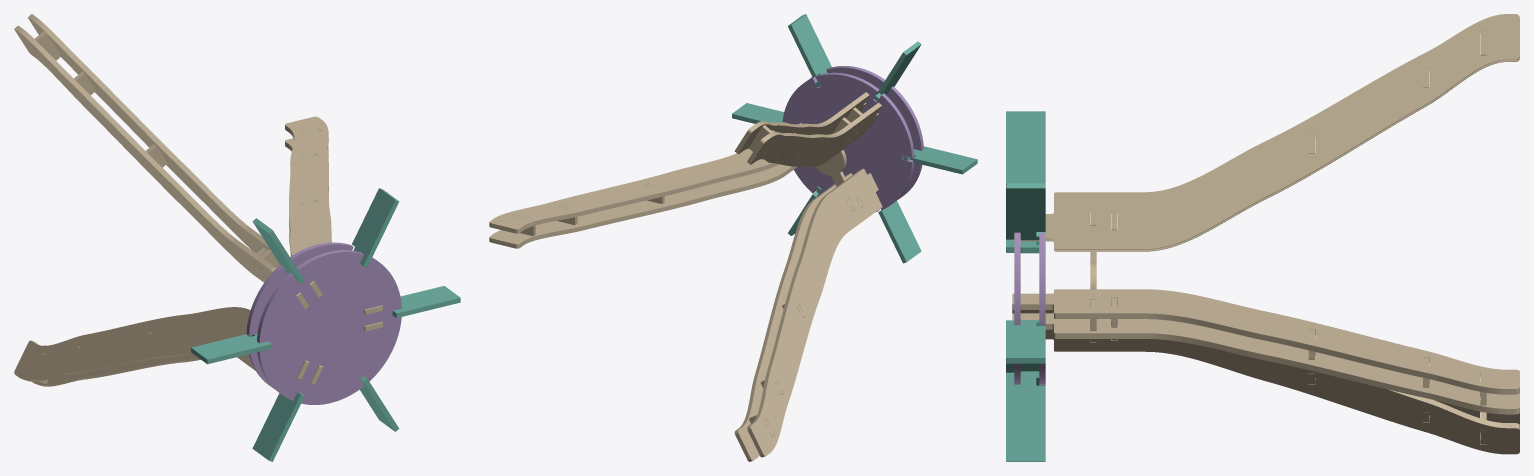
File: C-baseline-27-DESIGN_ONLY.glb
The picture shows the model from 3 angles, left to right: view 1: azimuth 30°, elevation 25°; view 2: azimuth 150°, elevation 25°; view 3: azimuth 270°, elevation 25°; orthographic projection. The views are drawn at different scales.
Parts seen in each view (by area): view 1: P04U, L3_P01_1, L1_P01_2, L2_P01_2, L2_P01_1, P04L, P05_2, P05_5, P05_4, L3_P01_2, P05_1, P05_3 (+1 smaller); view 2: L3_P01_1, P04L, L1_P01_2, L1_P01_1, L2_P01_2, L3_P01_2, P04U, L2_P01_1, P05_2, P05_5, P05_4, P03 (+2 smaller); view 3: L2_P01_1, L1_P01_2, L3_P01_2, L1_P01_1, P05_6, P05_3, P05_2, P05_1, L2_P01_2, P04L, P04U, L3_P01_1 (+1 smaller).
Boxes of the visible parts, x1,y1,x2,y2 form: P04U: [257, 250, 401, 404]; L3_P01_1: [14, 307, 309, 381]; L1_P01_2: [285, 116, 382, 314]; L2_P01_2: [14, 25, 309, 309]; L2_P01_1: [28, 14, 322, 298]; P04L: [246, 242, 355, 389]; P05_2: [352, 188, 399, 267]; P05_5: [252, 391, 304, 461]; P05_4: [191, 334, 271, 364]; L3_P01_2: [32, 345, 323, 386]; P05_1: [392, 286, 460, 317]; P05_3: [252, 218, 304, 283]; L3_P01_1: [747, 168, 882, 457]; P04L: [782, 72, 914, 211]; L1_P01_2: [489, 122, 802, 233]; L1_P01_1: [489, 164, 797, 248]; L2_P01_2: [747, 102, 882, 166]; L3_P01_2: [734, 173, 852, 461]; P04U: [809, 66, 923, 199]; L2_P01_1: [734, 92, 869, 154]; P05_2: [788, 14, 831, 86]; P05_5: [878, 201, 921, 263]; P05_4: [903, 146, 977, 174]; P03: [816, 107, 863, 207]; L2_P01_1: [1045, 14, 1519, 249]; L1_P01_2: [1012, 289, 1519, 394]; L3_P01_2: [1045, 323, 1519, 454]; L1_P01_1: [1012, 313, 1519, 414]; P05_6: [1006, 371, 1045, 461]; P05_3: [1006, 111, 1045, 183]; P05_2: [1006, 183, 1045, 240]; P05_1: [1006, 320, 1045, 363]; L2_P01_2: [1012, 31, 1519, 251]; P04L: [1039, 232, 1045, 385]; P04U: [1014, 232, 1020, 384]; L3_P01_1: [1012, 303, 1519, 432].
Bounding box in the file's own units: 0.431 × 0.4673 × 0.494.
